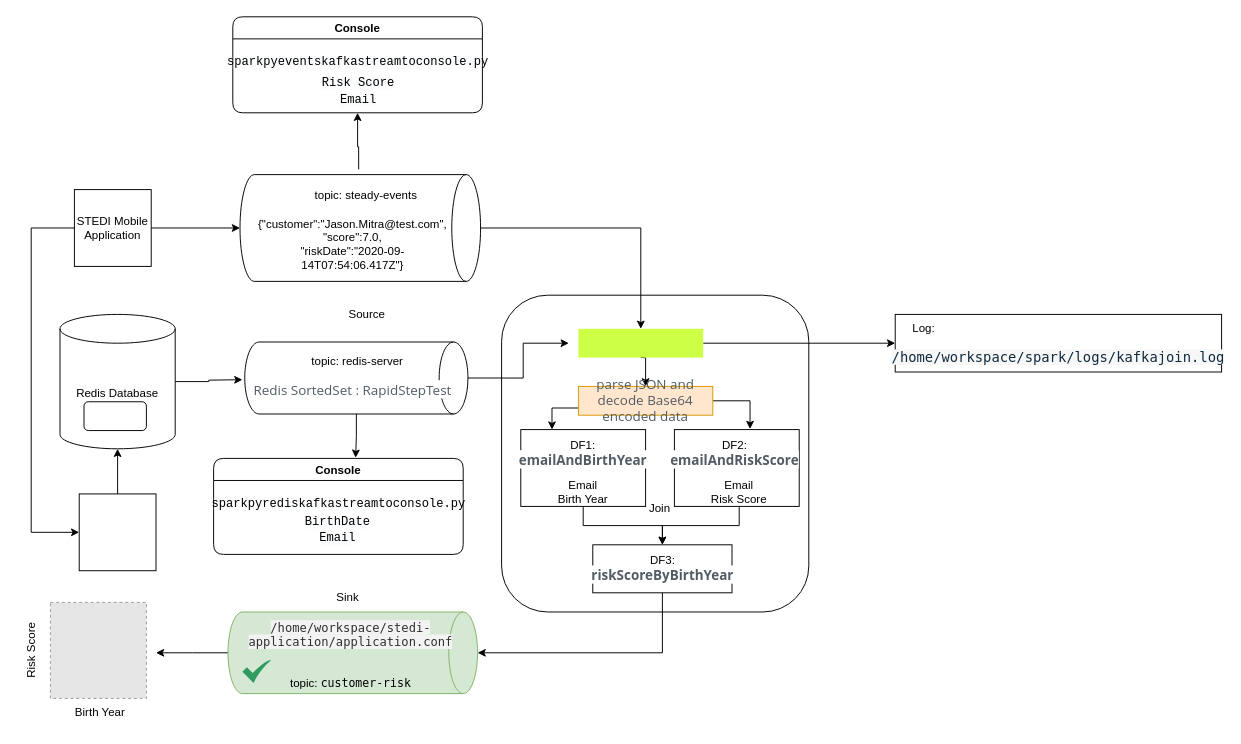
Some shapes in this 1241 by 744 pixel diagram are drawn without their labels. Grey dashed boxes stand in for pictures. Here are the shapes that lost their labels. From the top down, the centre of each, then its label:
At (x=640, y=342): "sparkpykafkajoin.py".
At (x=114, y=416): "Customer Information".
At (x=117, y=532): "Real-time data source".
